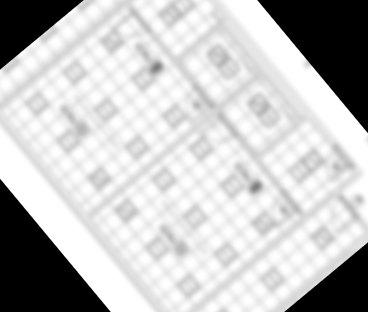door: (260, 189, 300, 229), (314, 145, 354, 185), (111, 10, 151, 49), (198, 114, 237, 153), (162, 0, 201, 4)
window: (319, 194, 361, 235)
